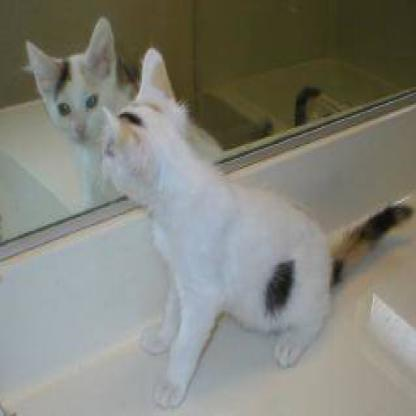cat: (45, 29, 246, 256)
